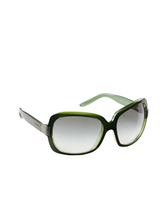glasses: (9, 94, 154, 156)
